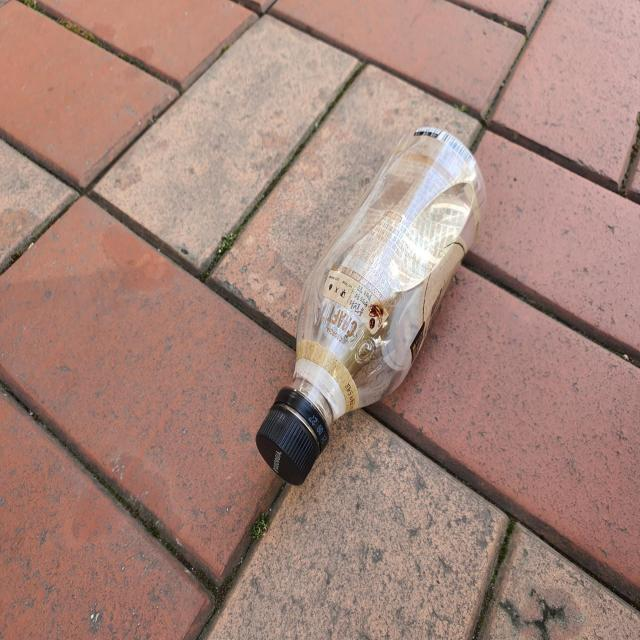plastic: (256, 126, 486, 485)
